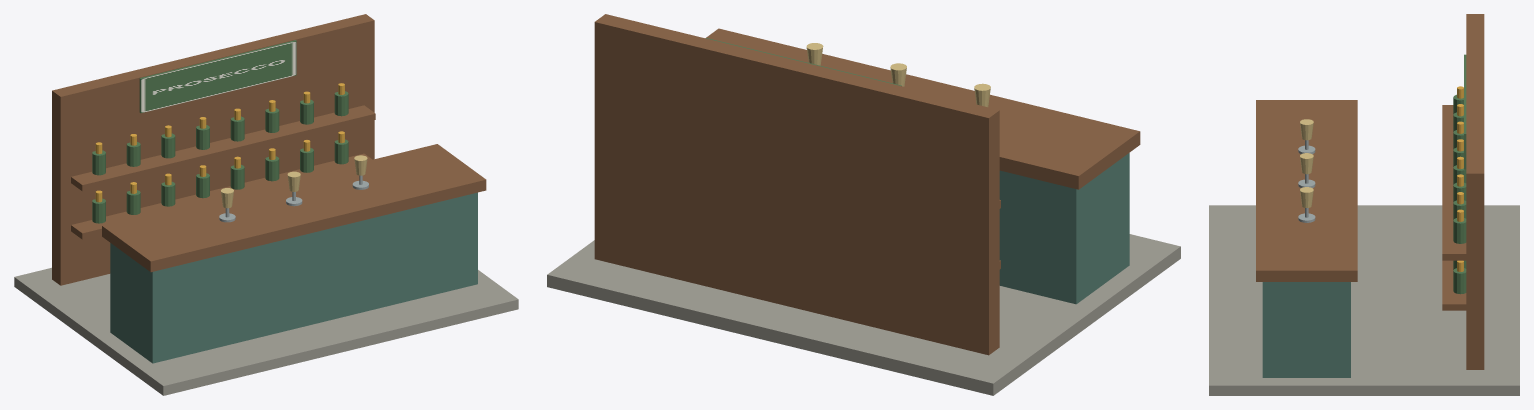
The model's file is scendance-plan-prosecco-bar.glb.
3 renders of one model, left to right at view 1: azimuth 30°, elevation 25°; view 2: azimuth 150°, elevation 25°; view 3: azimuth 270°, elevation 25°, orthographic. The views are drawn at different scales.
Bounding box in the file's own units: 3.78 × 2.07 × 2.75.
Materials: 8 (1 with a texture image).
